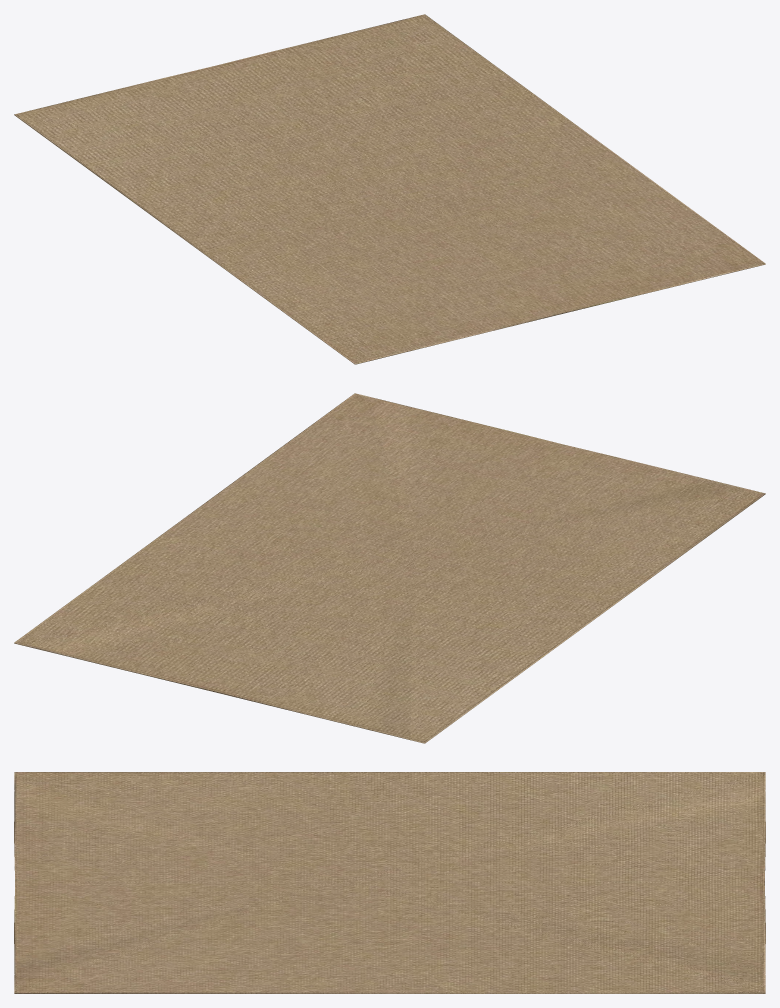
3 views of the same model, one above another, from view 1: azimuth 30°, elevation 25°; view 2: azimuth 150°, elevation 25°; view 3: azimuth 270°, elevation 25° (orthographic). The views are drawn at different scales.
Visible parts, largest first — view 1: lattbetong-160; view 2: lattbetong-160; view 3: lattbetong-160.
Boxes of the visible parts, x1=… form: lattbetong-160: x1=14, y1=14, x2=765, y2=364; lattbetong-160: x1=14, y1=393, x2=765, y2=743; lattbetong-160: x1=14, y1=772, x2=765, y2=993.
Bounding box in the file's own units: 1.6 × 0.00365 × 2.3.
Materials: 3 (3 with a texture image).
